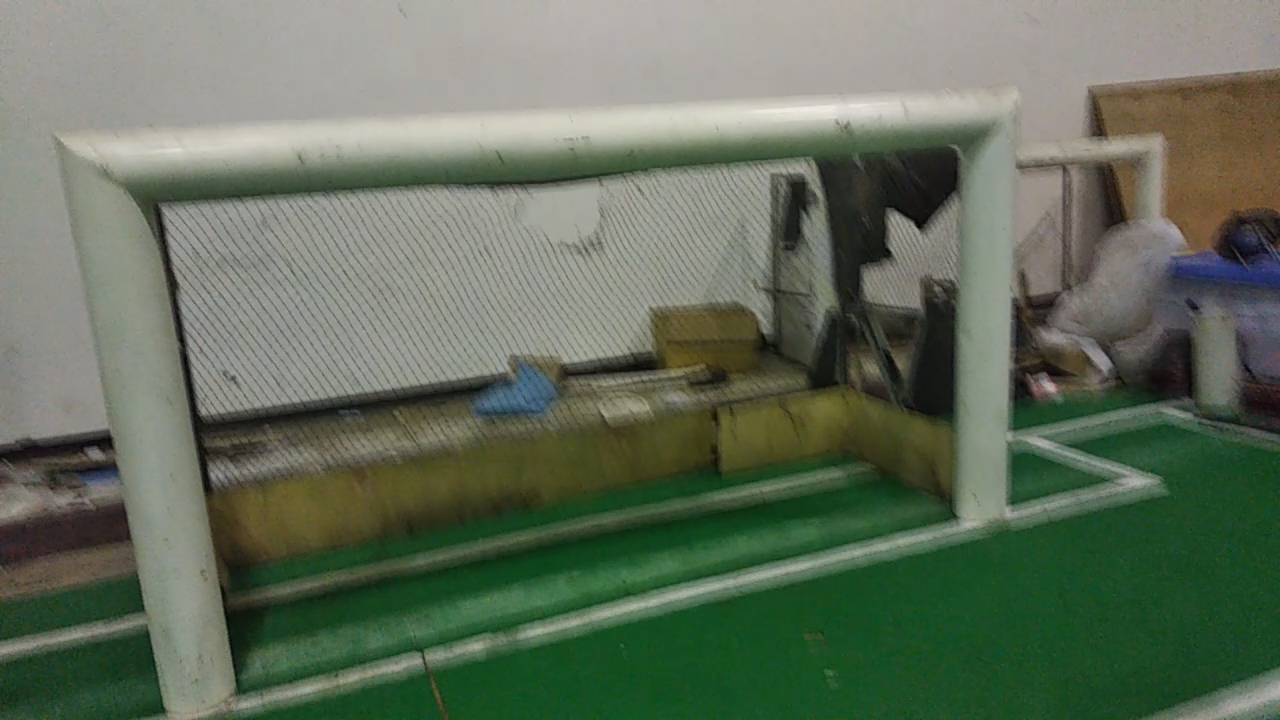gawang: (37, 79, 1037, 719)
